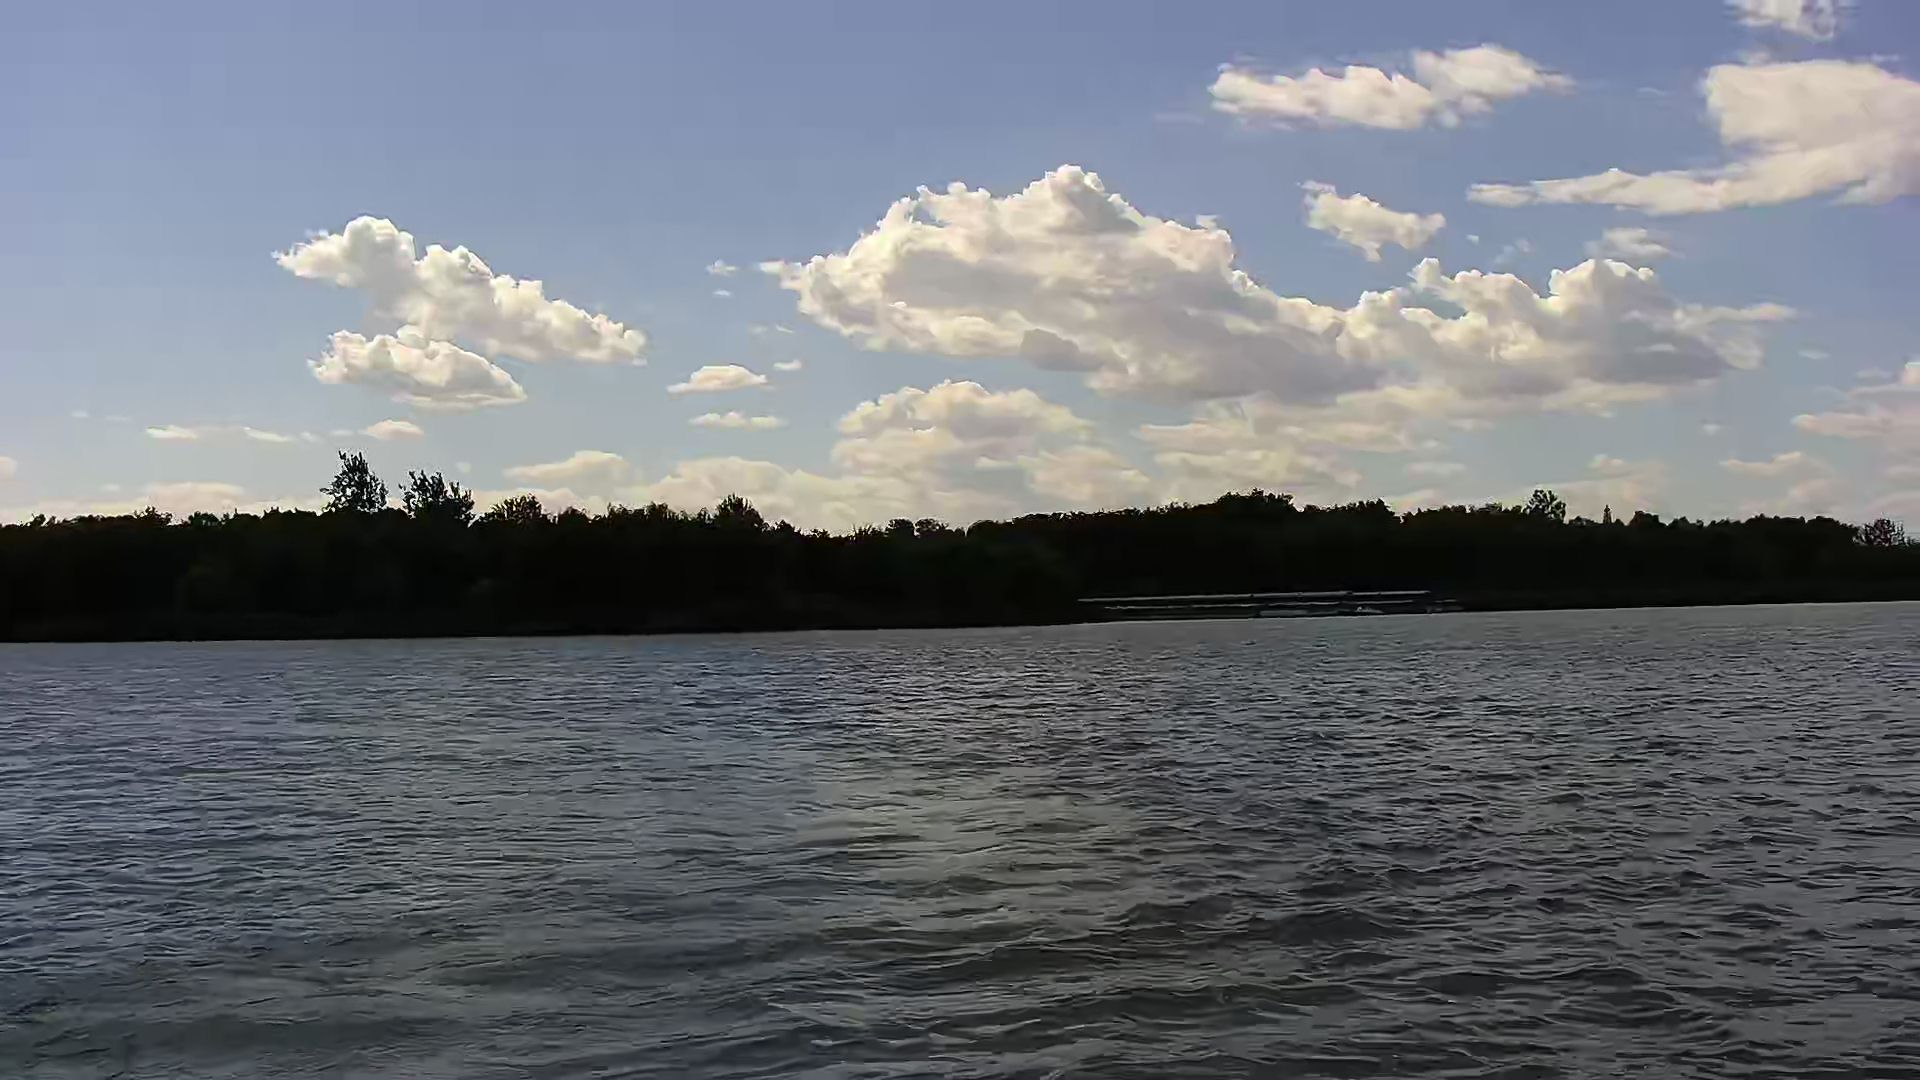bridge: (1081, 592, 1424, 621)
